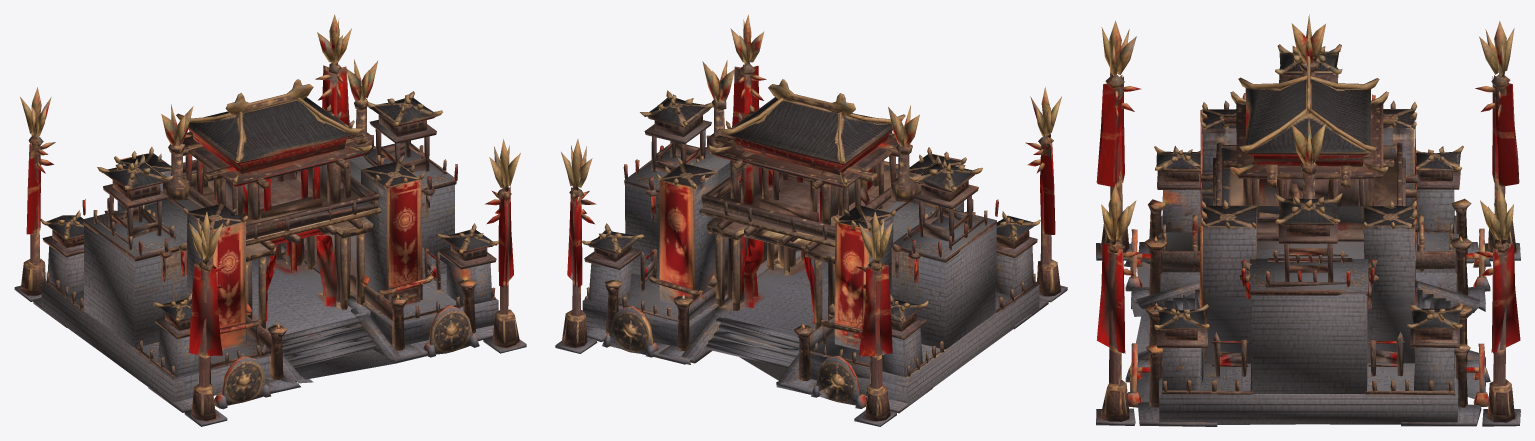
Rendered from Meshy_AI_Crimson_Phoenix_Citad_1004193707_texture.fbx.
3 renders of one model, left to right at view 1: azimuth 30°, elevation 25°; view 2: azimuth 150°, elevation 25°; view 3: azimuth 270°, elevation 25°, orthographic. The views are drawn at different scales.
Visible parts, largest first — view 1: Mesh_0; view 2: Mesh_0; view 3: Mesh_0.
Boxes of the visible parts, x1,y1,x2,y2 form: Mesh_0: (14,14,526,426); Mesh_0: (555,14,1067,426); Mesh_0: (1096,14,1520,426).
Bounding box in the file's own units: 100 × 68.99 × 100.
1 material, 1 textured.
